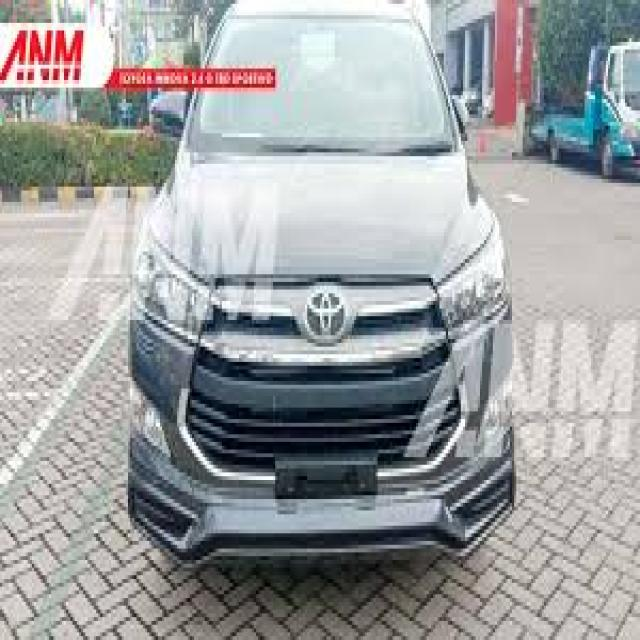light_vehicle: (128, 0, 515, 569)
